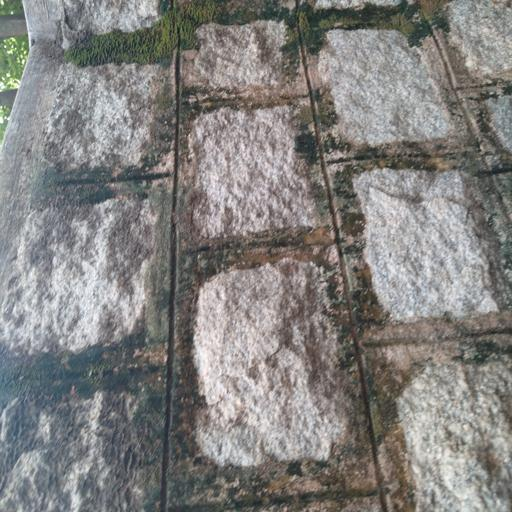algae: (49, 8, 474, 91)
